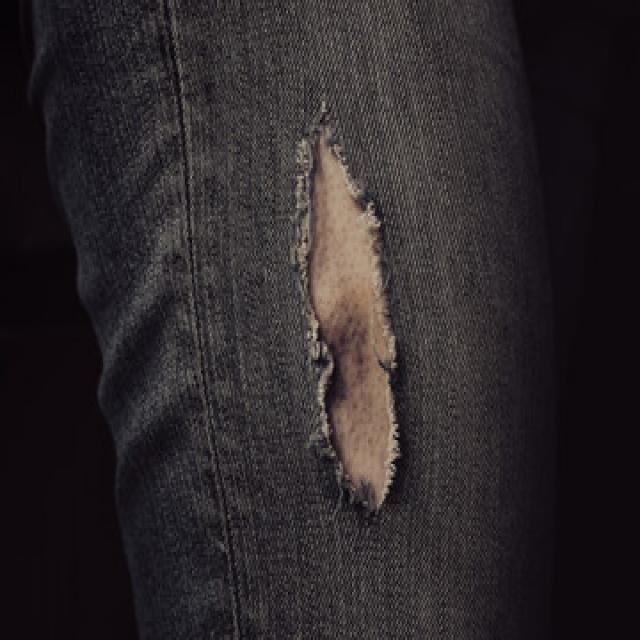Hole: (295, 100, 400, 514)
